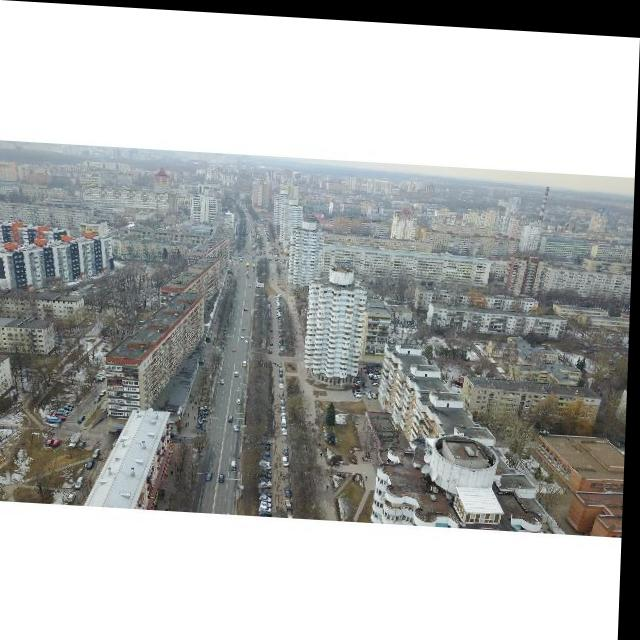vehicle: (261, 476, 276, 486), (262, 491, 276, 499), (262, 501, 276, 509), (288, 482, 296, 495), (262, 487, 276, 494), (262, 465, 276, 471), (263, 497, 275, 504), (201, 414, 211, 422), (262, 470, 275, 476), (262, 474, 275, 480), (209, 468, 216, 479), (203, 402, 214, 409), (263, 452, 275, 458), (289, 495, 296, 505), (263, 441, 274, 447), (263, 457, 273, 463), (286, 453, 292, 463), (198, 419, 208, 425), (200, 411, 210, 417), (201, 408, 211, 414), (286, 443, 293, 451), (358, 389, 366, 396), (234, 457, 240, 466), (265, 438, 275, 443), (263, 449, 273, 454), (285, 424, 291, 432), (263, 462, 275, 466), (284, 415, 290, 423), (355, 379, 363, 385), (230, 412, 236, 419), (369, 388, 375, 395), (222, 471, 227, 479), (355, 384, 363, 389), (237, 422, 243, 428), (373, 388, 379, 394), (283, 395, 288, 402), (365, 377, 372, 382), (356, 387, 364, 391), (284, 409, 289, 415), (282, 374, 287, 380), (240, 396, 245, 402), (369, 384, 374, 390), (282, 342, 289, 346), (237, 368, 242, 373), (272, 338, 277, 343), (285, 402, 289, 408), (283, 390, 287, 396), (282, 368, 286, 374), (246, 358, 250, 364), (282, 358, 286, 364), (282, 344, 288, 348), (282, 379, 286, 384), (234, 344, 238, 349), (246, 336, 251, 340), (271, 345, 275, 350), (364, 384, 368, 389), (223, 377, 227, 381), (282, 364, 286, 368), (244, 332, 247, 336), (272, 335, 275, 339), (272, 331, 275, 335), (247, 296, 250, 300), (247, 304, 250, 308), (245, 324, 247, 328), (273, 324, 275, 328)
